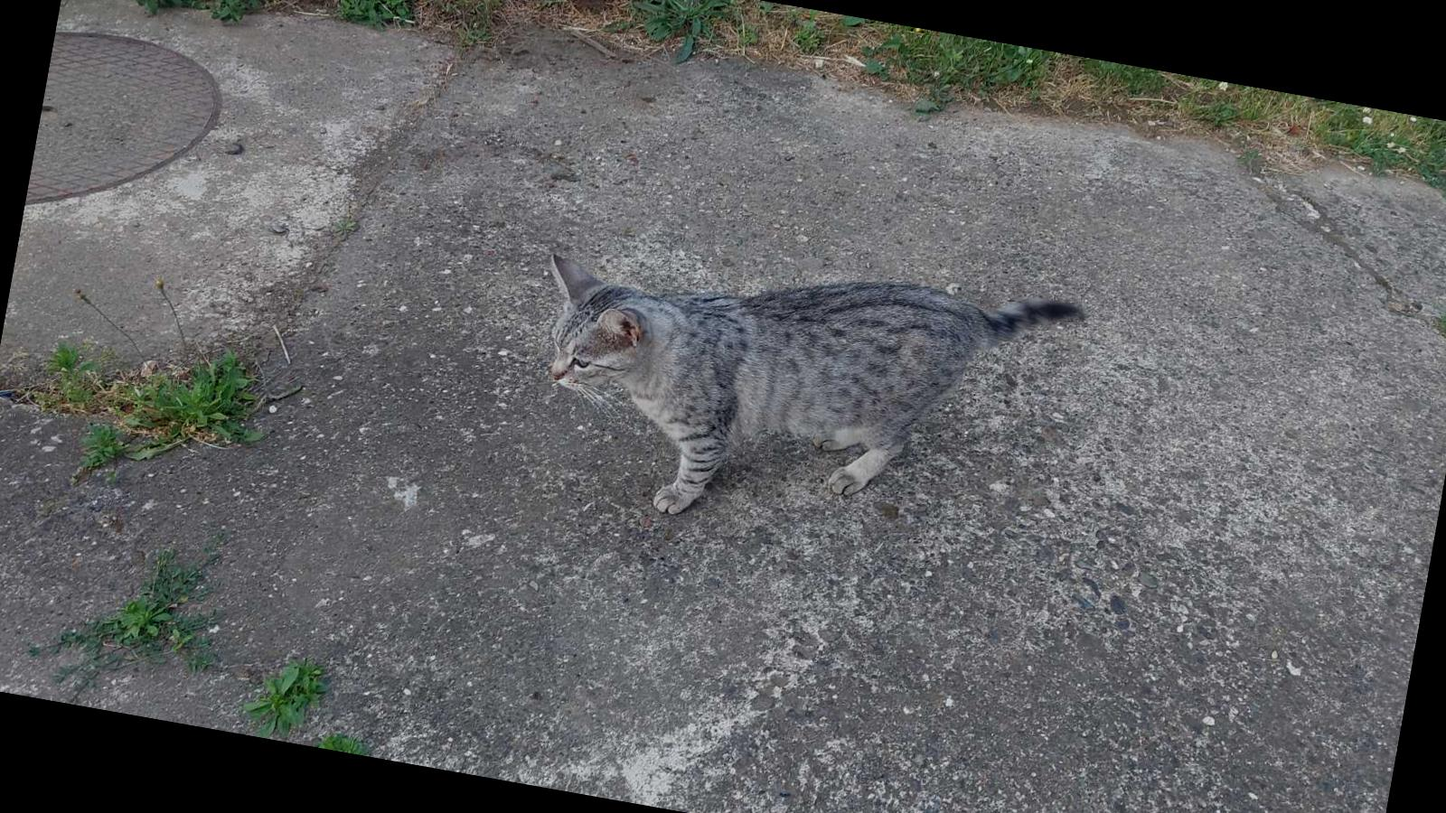macka: (507, 207, 1092, 584)
